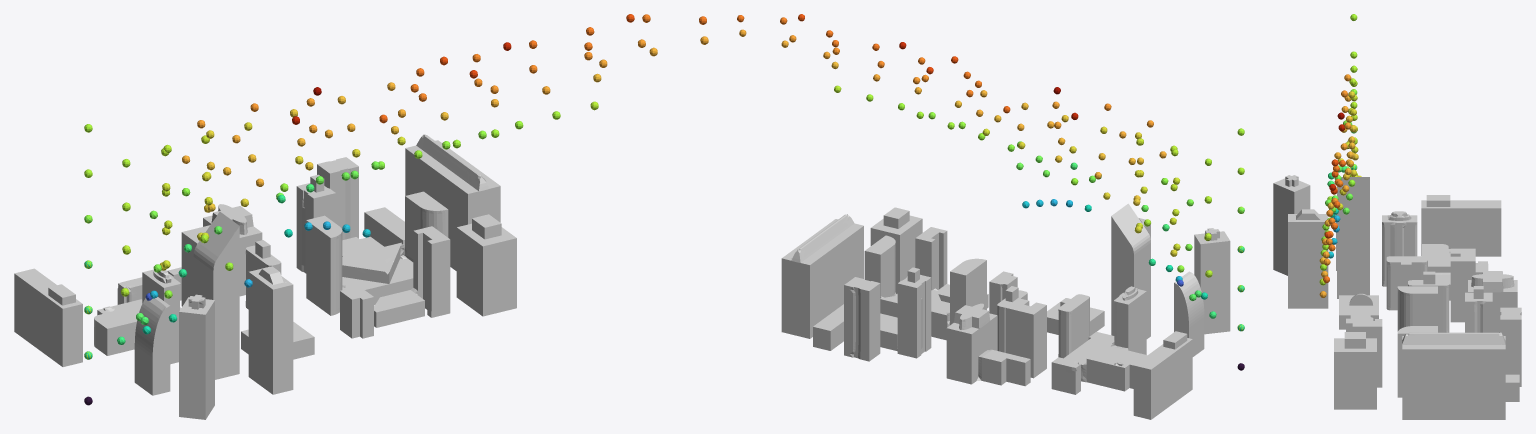
The model's file is wab_partialAnim9.glb.
3 views of the same model, side by side, from view 1: azimuth 30°, elevation 25°; view 2: azimuth 150°, elevation 25°; view 3: azimuth 270°, elevation 25° (orthographic). The views are drawn at different scales.
Parts seen in each view (by area): view 1: mesh0, Renderer Node.012, Renderer Node.010, Renderer Node.009, Renderer Node.005, Renderer Node.004, Renderer Node.011, Renderer Node.014; view 2: mesh0, Renderer Node.012, Renderer Node.009, Renderer Node.004, Renderer Node.010, Renderer Node.005, Renderer Node.011; view 3: mesh0, Renderer Node.004, Renderer Node.012, Renderer Node.010, Renderer Node.009, Renderer Node.011, Renderer Node.005, Renderer Node.006.
Boxes of the visible parts, left/top/right/bottom form: mesh0: left=14, top=134, right=516, bottom=419; Renderer Node.012: left=84, top=47, right=657, bottom=359; Renderer Node.010: left=117, top=36, right=708, bottom=344; Renderer Node.009: left=136, top=27, right=594, bottom=321; Renderer Node.005: left=150, top=16, right=706, bottom=298; Renderer Node.004: left=145, top=14, right=650, bottom=300; Renderer Node.011: left=122, top=14, right=634, bottom=296; Renderer Node.014: left=140, top=56, right=447, bottom=324; mesh0: left=781, top=203, right=1230, bottom=419; Renderer Node.012: left=781, top=40, right=1244, bottom=330; Renderer Node.009: left=826, top=30, right=1196, bottom=300; Renderer Node.004: left=780, top=17, right=1183, bottom=286; Renderer Node.010: left=739, top=29, right=1216, bottom=316; Renderer Node.005: left=737, top=15, right=1182, bottom=281; Renderer Node.011: left=798, top=14, right=1215, bottom=318; mesh0: left=1273, top=175, right=1521, bottom=419; Renderer Node.004: left=1319, top=95, right=1361, bottom=285; Renderer Node.012: left=1321, top=14, right=1356, bottom=277; Renderer Node.010: left=1319, top=67, right=1357, bottom=297; Renderer Node.009: left=1320, top=81, right=1358, bottom=270; Renderer Node.011: left=1324, top=65, right=1357, bottom=238; Renderer Node.005: left=1322, top=98, right=1357, bottom=283; Renderer Node.006: left=1327, top=91, right=1355, bottom=194.
Size of what is drawn, in the model's own units: 2.34 by 1.04 by 1.01.
Materials: 13 (12 with a texture image).
